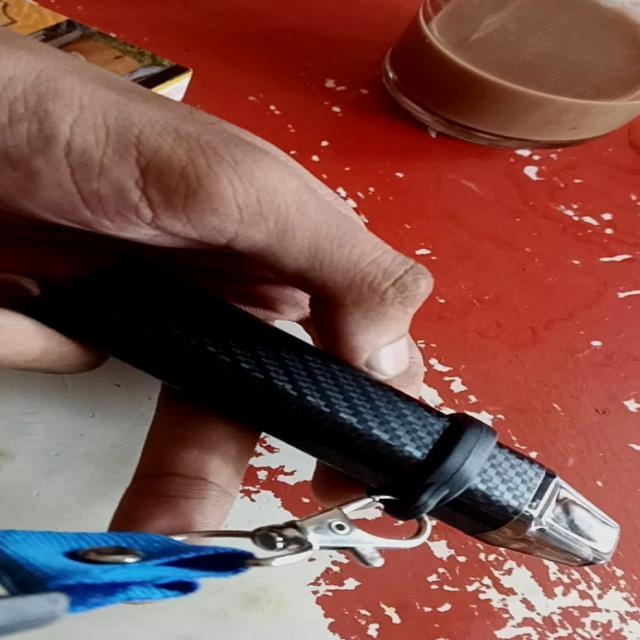Hazard: (24, 256, 626, 568)
